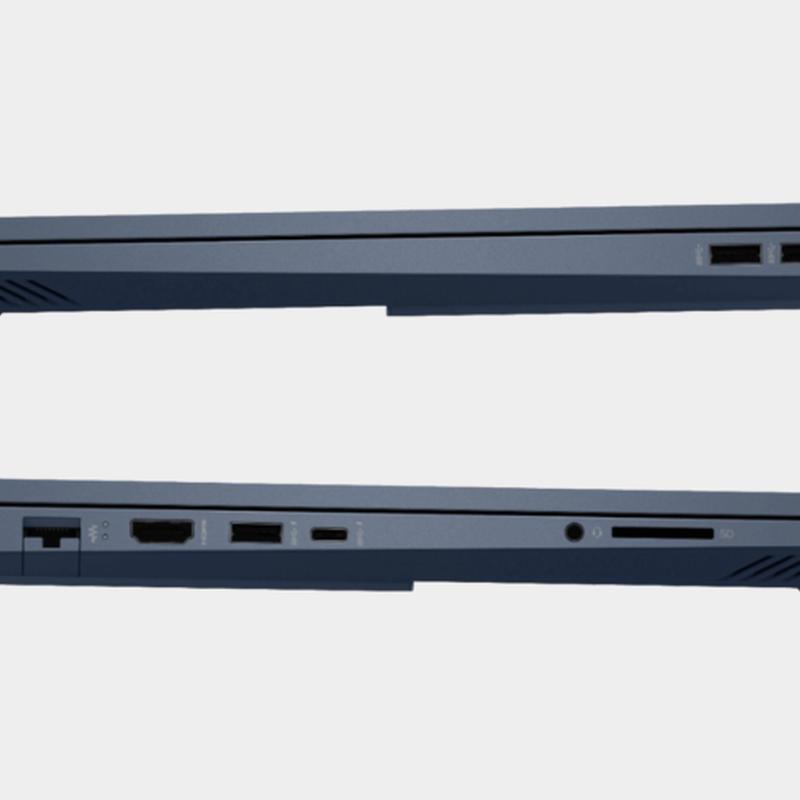AUDIO: (545, 510, 595, 551)
HDMI: (109, 501, 205, 556)
USB: (219, 500, 290, 560)
USBC: (303, 515, 360, 551)
